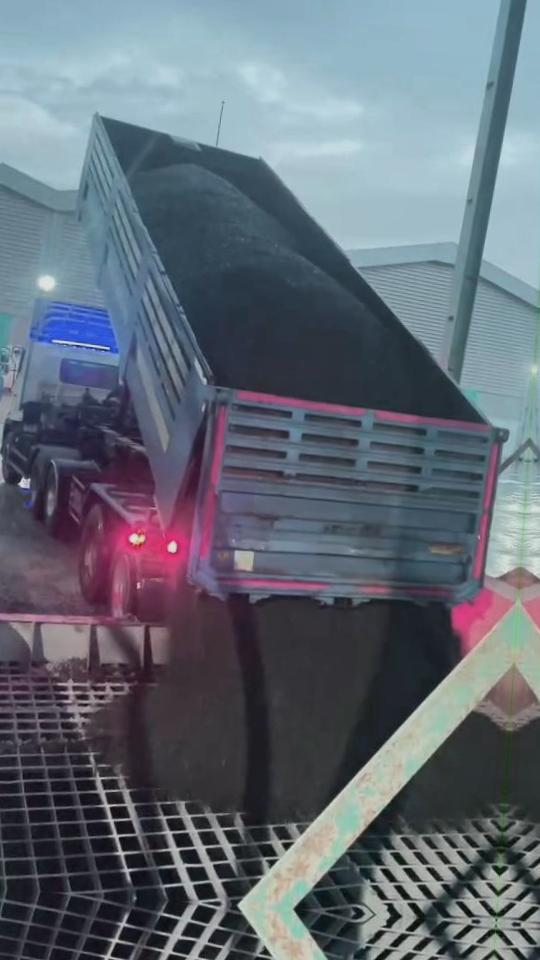gravel: (90, 584, 450, 820), (132, 165, 439, 414), (402, 703, 508, 822)
